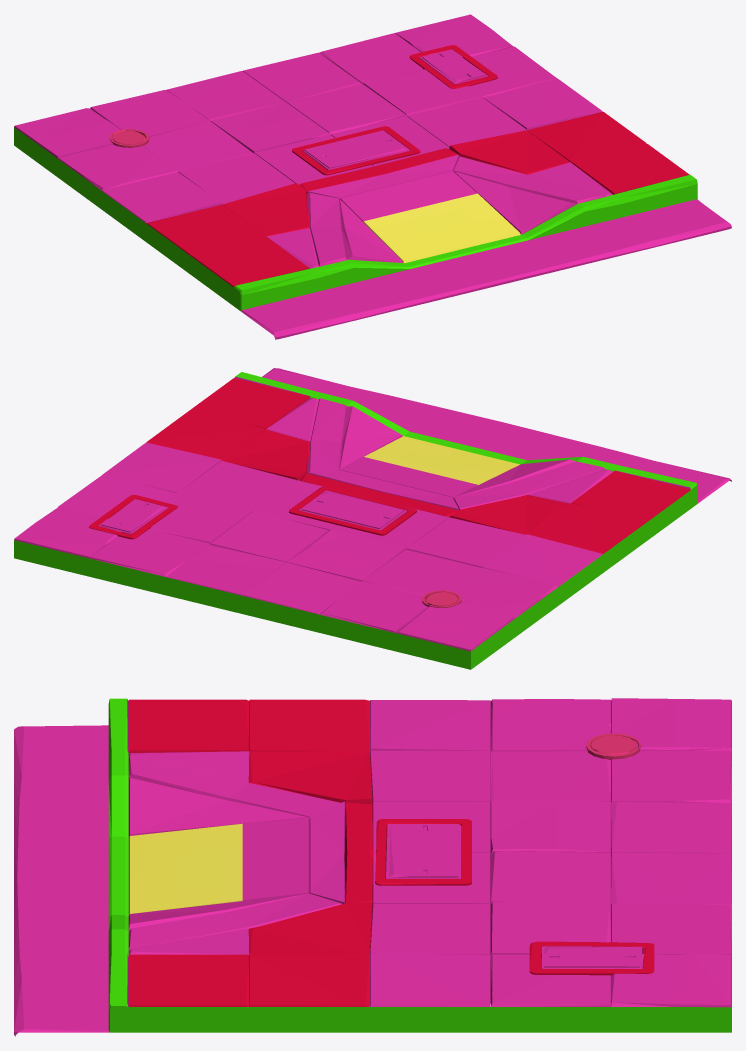
Rendered from Sidewalk06.fbx.
The picture shows the model from 3 angles, top to bottom: view 1: azimuth 30°, elevation 25°; view 2: azimuth 150°, elevation 25°; view 3: azimuth 270°, elevation 25°; orthographic projection. The views are drawn at different scales.
Parts seen in each view (by area): view 1: SM_Sidewalk_01f.mo; view 2: SM_Sidewalk_01f.mo; view 3: SM_Sidewalk_01f.mo.
Part boxes in pixels (x1,y1,x2,y2): SM_Sidewalk_01f.mo: (14,14,731,339); SM_Sidewalk_01f.mo: (14,368,731,669); SM_Sidewalk_01f.mo: (14,698,731,1036).
Bounding box in the file's own units: 600 × 31.71 × 595.
